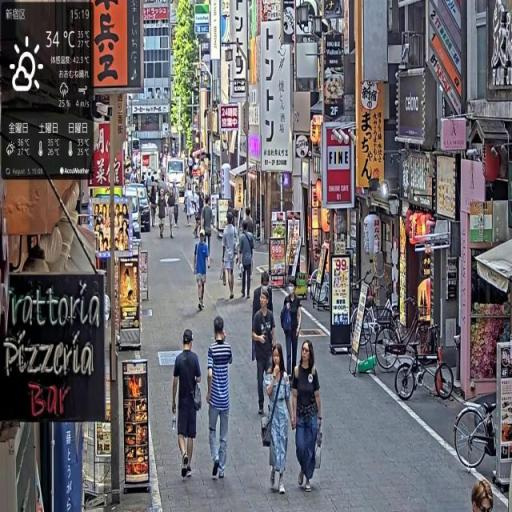person: (292, 340, 325, 496), (262, 343, 295, 498), (172, 328, 205, 483), (206, 317, 235, 483), (251, 287, 278, 417), (280, 275, 305, 388), (193, 230, 211, 315), (222, 214, 239, 301), (239, 220, 256, 304), (202, 196, 215, 263), (158, 191, 168, 241)
